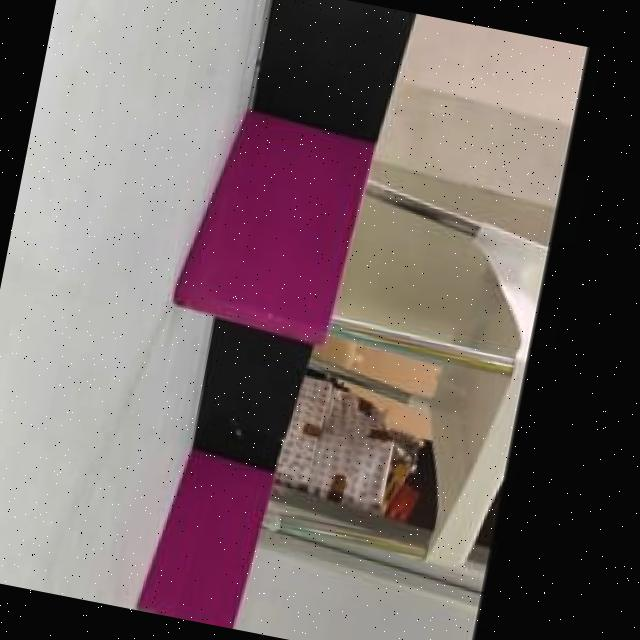xparking: (183, 123, 368, 340), (156, 462, 265, 630)
